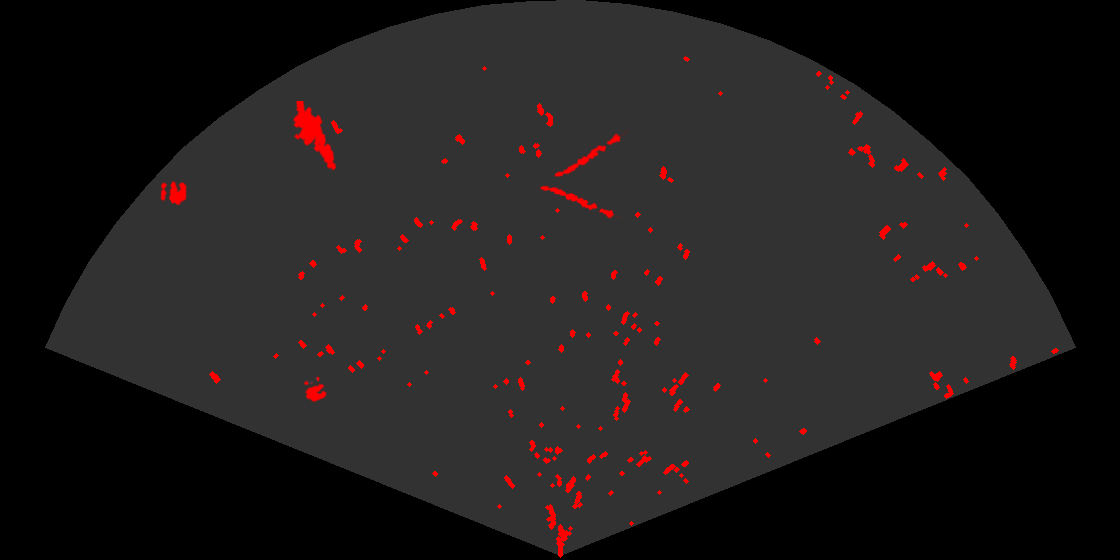ball: (159, 179, 188, 207), (302, 375, 328, 404)
chain: (553, 128, 629, 179), (538, 184, 621, 221)
frogman: (291, 101, 338, 172)
